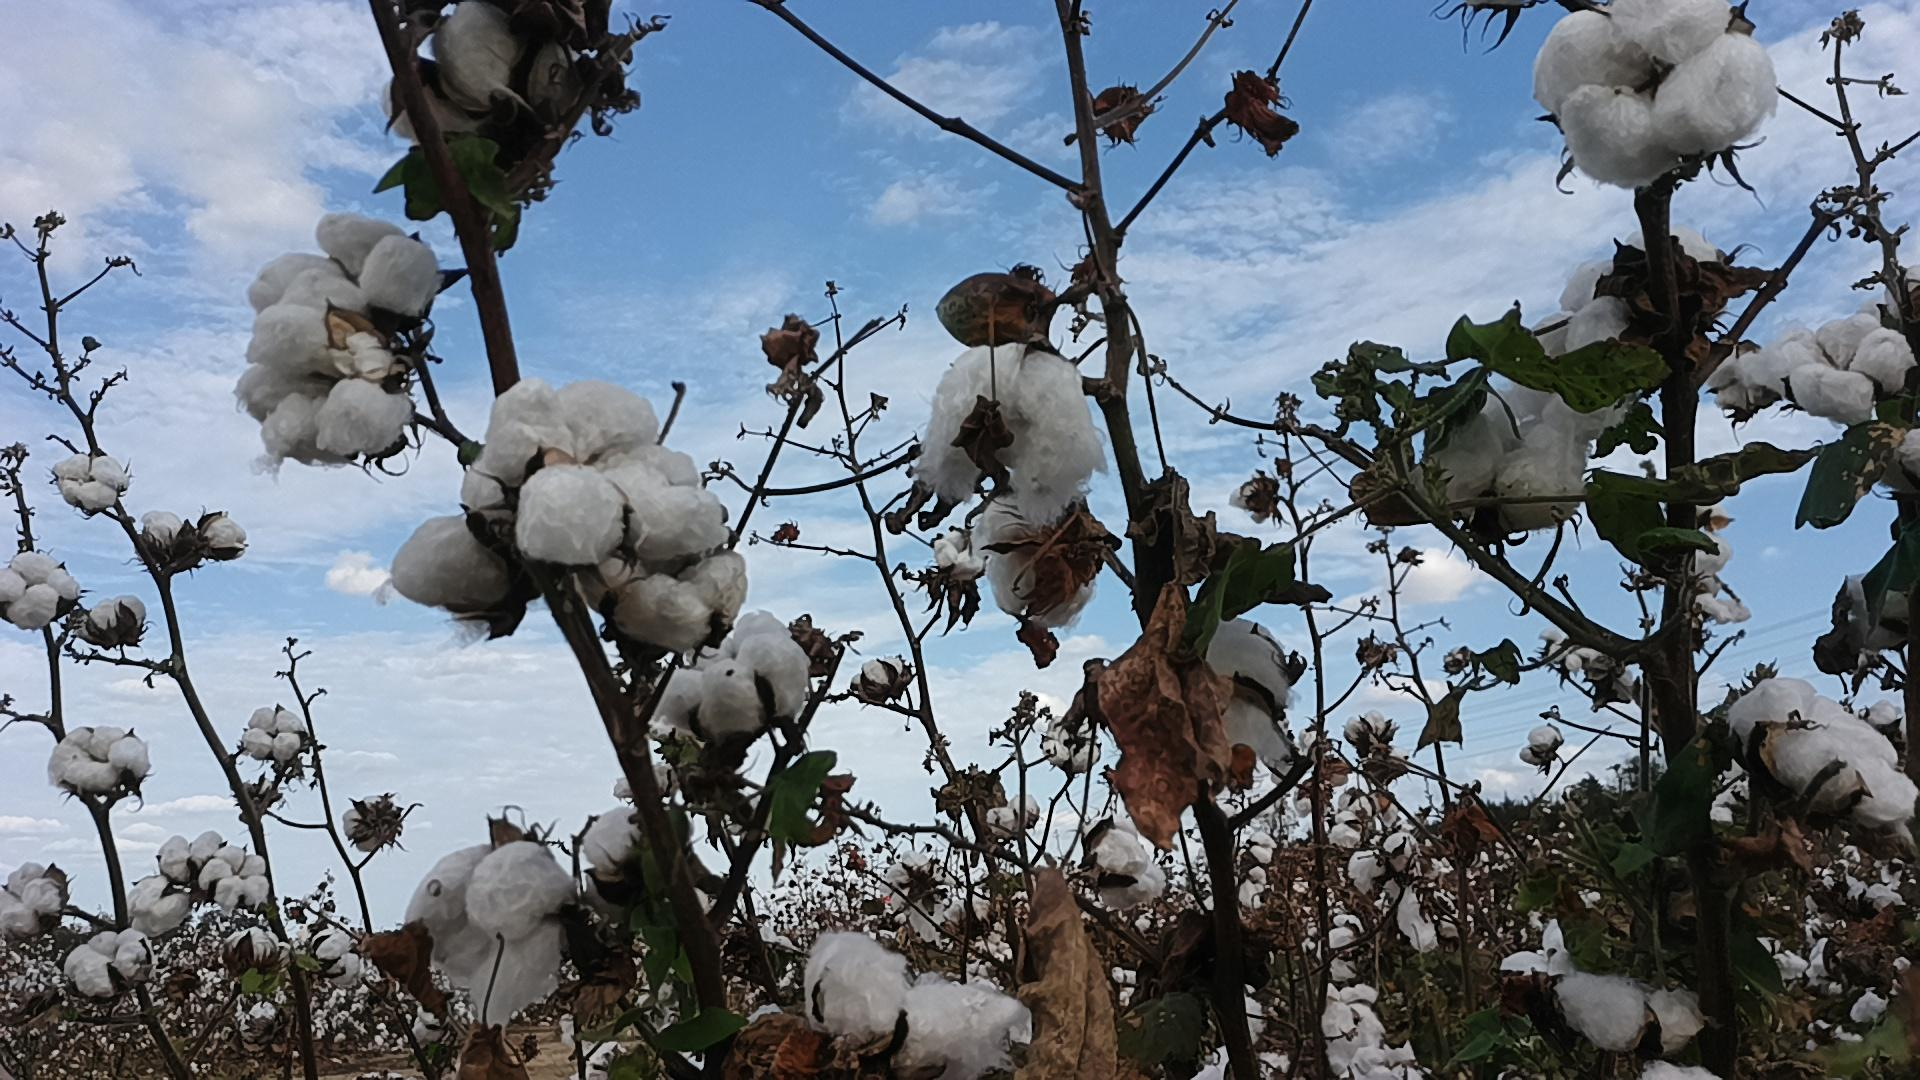cotton_ready: (463, 376, 727, 572), (1506, 225, 1729, 434), (1536, 0, 1776, 190), (916, 339, 1110, 526), (800, 928, 1036, 1080), (400, 843, 576, 1035), (231, 306, 414, 475), (1726, 674, 1920, 831), (377, 0, 588, 136), (1501, 920, 1706, 1056), (638, 607, 815, 744), (1416, 402, 1586, 526), (248, 212, 438, 316), (578, 539, 749, 653), (1734, 313, 1913, 417), (978, 488, 1100, 634), (1200, 616, 1303, 779), (382, 512, 527, 625), (578, 798, 670, 903), (1088, 819, 1167, 913), (47, 723, 150, 794), (61, 928, 153, 1006), (0, 553, 87, 630), (0, 860, 66, 942), (51, 455, 131, 513), (202, 847, 270, 909), (127, 877, 195, 935), (240, 707, 305, 764), (78, 592, 149, 644), (158, 832, 227, 882), (202, 513, 251, 560), (140, 509, 194, 550)
